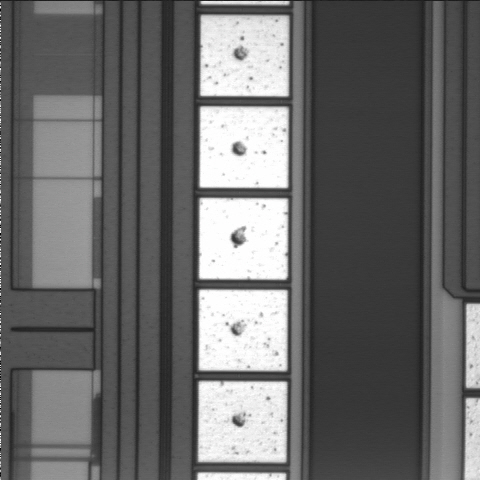pad: (199, 106, 288, 188), (199, 198, 288, 280), (200, 15, 289, 96), (198, 381, 287, 462), (199, 290, 287, 371)
